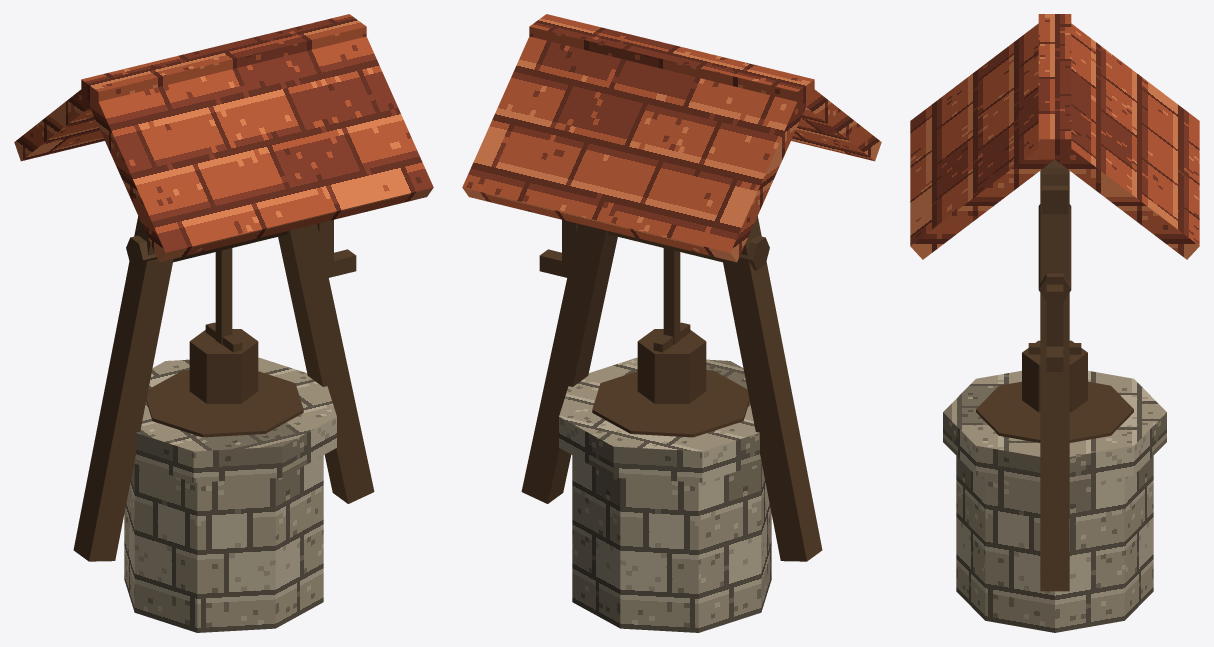
File: well_t1.glb
3 views of the same model, side by side, from view 1: azimuth 30°, elevation 25°; view 2: azimuth 150°, elevation 25°; view 3: azimuth 270°, elevation 25° (orthographic). The views are drawn at different scales.
Parts seen in each view (by area): view 1: roof_1, shaft, leg_1, rim, leg_0, ridge, water_hole, bucket_body, roof_0, rope, axle, crank_arm; view 2: roof_0, shaft, leg_1, rim, leg_0, ridge, water_hole, bucket_body, roof_1, rope, axle, crank_arm; view 3: shaft, roof_0, roof_1, rim, leg_0, water_hole, ridge, bucket_body, crank_arm, axle, tie_beam, crank_knob.
Part boxes in pixels (bbox=[...]): roof_1: bbox=[86, 36, 433, 262]; shaft: bbox=[124, 455, 323, 632]; leg_1: bbox=[73, 216, 173, 561]; rim: bbox=[134, 357, 336, 482]; leg_0: bbox=[278, 224, 374, 503]; ridge: bbox=[81, 14, 366, 113]; water_hole: bbox=[146, 370, 303, 437]; bucket_body: bbox=[189, 329, 258, 403]; roof_0: bbox=[14, 86, 104, 161]; rope: bbox=[215, 248, 232, 344]; axle: bbox=[126, 223, 318, 270]; crank_arm: bbox=[318, 220, 333, 273]; roof_0: bbox=[462, 36, 805, 262]; shaft: bbox=[572, 455, 771, 632]; leg_1: bbox=[722, 216, 822, 561]; rim: bbox=[559, 357, 761, 482]; leg_0: bbox=[521, 224, 617, 503]; ridge: bbox=[529, 14, 814, 113]; water_hole: bbox=[592, 370, 749, 437]; bucket_body: bbox=[637, 329, 706, 403]; roof_1: bbox=[791, 89, 881, 161]; rope: bbox=[663, 248, 680, 344]; axle: bbox=[577, 223, 769, 270]; crank_arm: bbox=[562, 220, 577, 273]; shaft: bbox=[956, 456, 1153, 632]; roof_0: bbox=[1048, 23, 1199, 259]; roof_1: bbox=[910, 23, 1059, 259]; rim: bbox=[943, 370, 1166, 486]; leg_0: bbox=[1040, 167, 1069, 591]; water_hole: bbox=[976, 381, 1133, 442]; ridge: bbox=[1038, 14, 1071, 159]; bucket_body: bbox=[1022, 340, 1087, 412]; crank_arm: bbox=[1046, 284, 1063, 346]; axle: bbox=[1038, 204, 1071, 301]; tie_beam: bbox=[1041, 160, 1068, 214]; crank_knob: bbox=[1046, 346, 1063, 371].
Size of what is drawn, in the model's own units: 0.9583 by 1.73 by 0.8799.
Materials: 3 (2 with a texture image).
